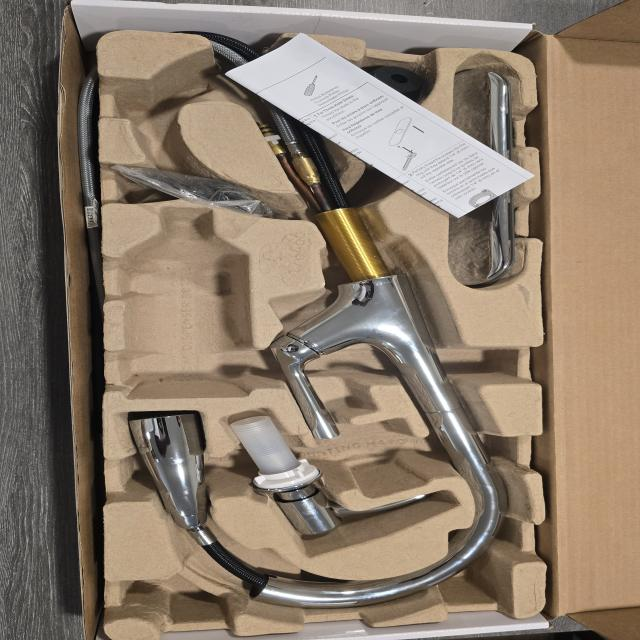1o: (131, 34, 506, 608)
2: (229, 416, 430, 538)
3m: (125, 208, 247, 400)
4o: (435, 68, 517, 289)
5o: (331, 64, 421, 124)
6m: (114, 59, 217, 140)
7: (113, 167, 281, 216)
8: (219, 30, 536, 217)
